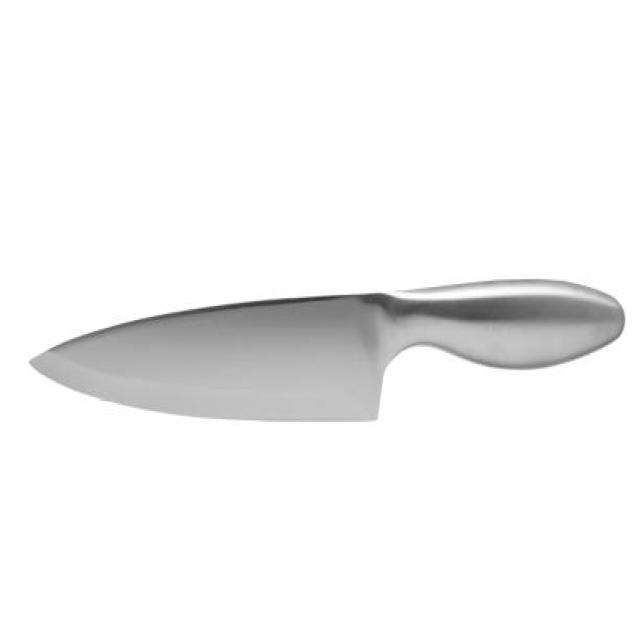knife: (30, 283, 629, 436)
